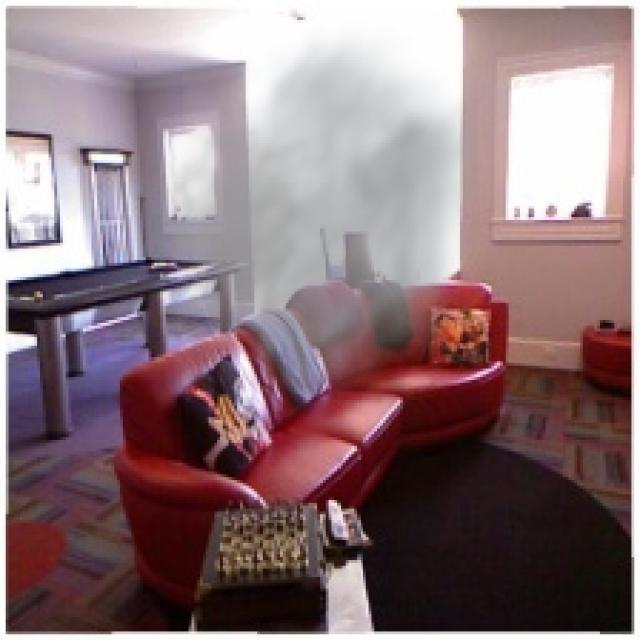Smoke: (128, 20, 478, 420)
